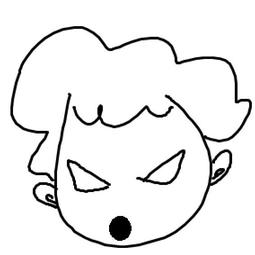ear: (204, 143, 236, 189), (32, 181, 69, 213)
empty_eye: (129, 144, 190, 187), (65, 155, 113, 197)
open_mouth: (99, 210, 137, 246)
